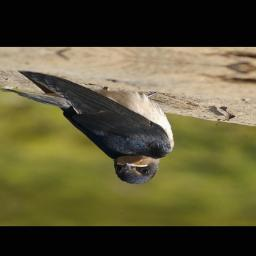Swallow: (0, 69, 186, 187)
